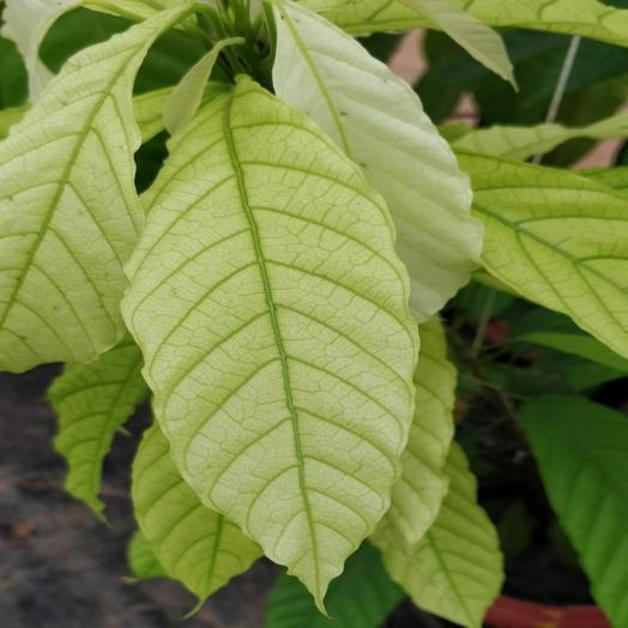Iron: (122, 76, 417, 610), (0, 7, 182, 371)
